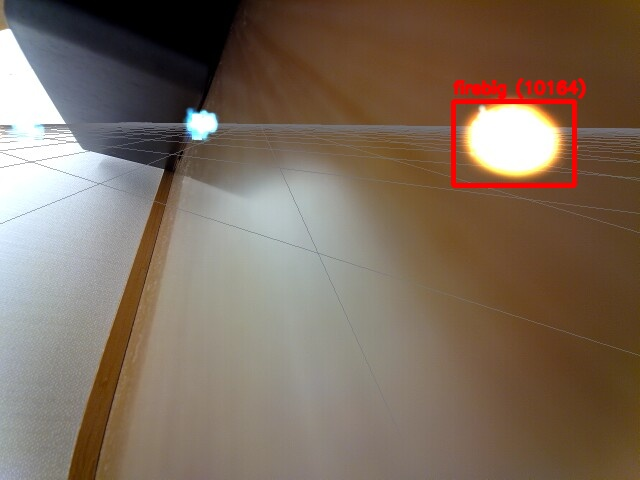firebig: (453, 101, 574, 185)
